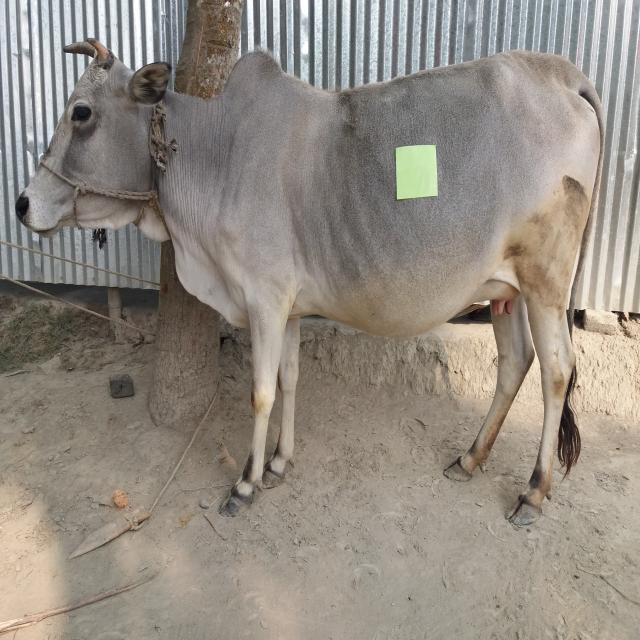badan_sapi: (219, 48, 598, 337)
sapi: (11, 31, 605, 531)
